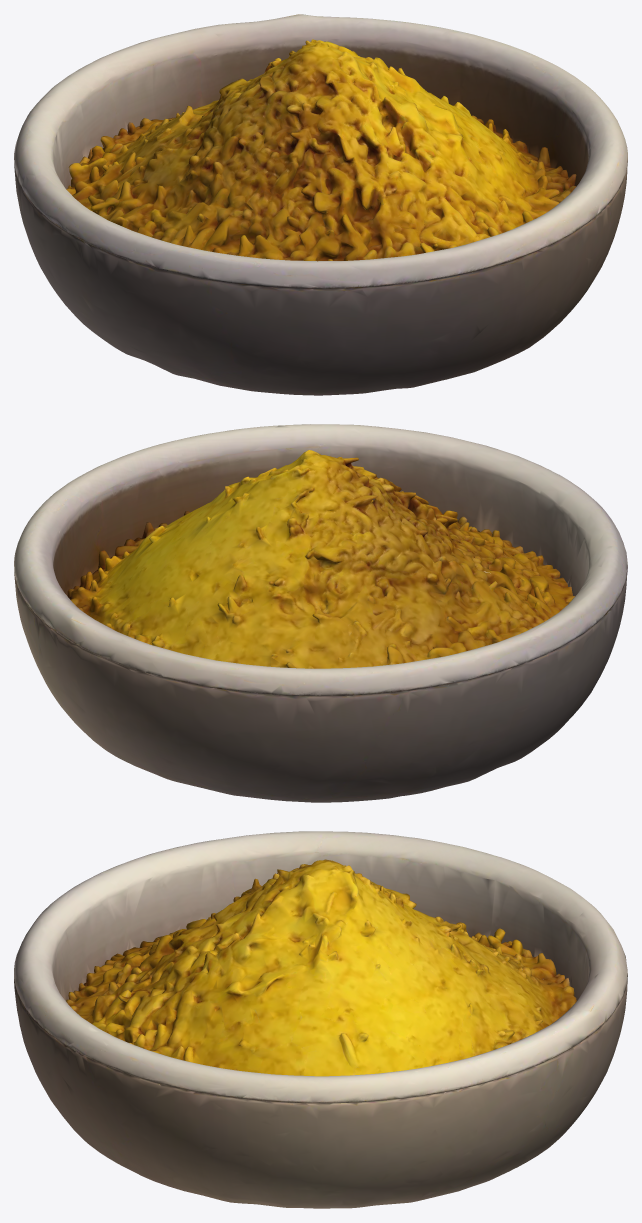
Rendered from lemonpepper.glb.
The picture shows the model from 3 angles, top to bottom: view 1: azimuth 30°, elevation 25°; view 2: azimuth 150°, elevation 25°; view 3: azimuth 270°, elevation 25°; orthographic projection.
Parts seen in each view (by area): view 1: geometry_0; view 2: geometry_0; view 3: geometry_0.
Part boxes in pixels (x1=…): geometry_0: x1=14, y1=14, x2=627, y2=395; geometry_0: x1=14, y1=424, x2=627, y2=802; geometry_0: x1=14, y1=831, x2=627, y2=1208.
Bounding box in the file's own units: 0.9807 × 0.4447 × 0.9796.
Materials: 1 (1 with a texture image).
